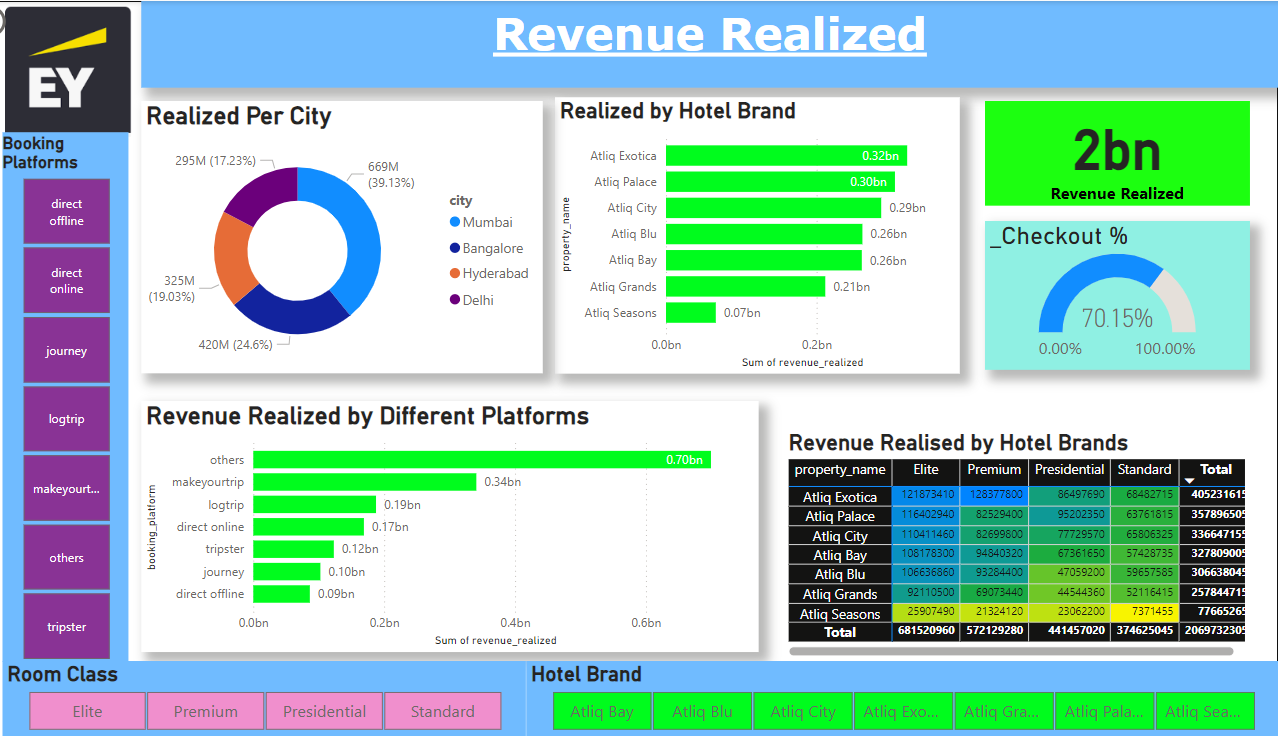

The dashboard page shown, as its layout file describes it:
{"tool":"powerbi","page":{"name":"Revenue Realised","canvas":[1280,720],"ordinal":0},"visuals":[{"type":"textbox","box":[167.6,0,1112.7,84.4],"z":0},{"type":"clusteredBarChart","title":"Revenue Realized by Different Platforms","fields":{"Category":["fact_bookings.booking_platform"],"Y":["Sum(fact_bookings.revenue_realized)"]},"box":[166.9,391.8,604.3,245.6],"z":1000},{"type":"image","box":[0,0,191.5,137.8],"z":2000},{"type":"clusteredBarChart","title":"Realized by Hotel Brand","fields":{"Category":["dim_hotels.property_name"],"Y":["Sum(fact_bookings.revenue_realized)"]},"box":[572.5,93.8,395.9,270.4],"z":3000},{"type":"donutChart","title":"Realized Per City","fields":{"Category":["dim_hotels.city"],"Y":["Sum(fact_bookings.revenue_realized)"]},"box":[166.9,98,393.2,266.3],"z":4000},{"type":"pivotTable","title":"Revenue Realised by Hotel Brands","fields":{"Values":["Sum(fact_bookings.revenue_generated)"],"Rows":["dim_hotels.property_name"],"Columns":["dim_rooms.room_class"]},"box":[796.1,419.4,456.1,226.2],"z":5000},{"type":"actionButton","box":[0,0,100,40],"z":6000},{"type":"slicer","title":"Room Class","fields":{"Values":["dim_rooms.room_class"]},"box":[31.7,645.7,511.8,74.5],"z":7000},{"type":"slicer","title":"Booking Platforms","fields":{"Values":["fact_bookings.booking_platform"]},"box":[31.8,128.4,123.5,517.3],"z":8000},{"type":"slicer","title":"Hotel Brand","fields":{"Values":["dim_hotels.property_name"]},"box":[543.6,645.7,736.7,74.5],"z":9000},{"type":"card","fields":{"Values":["Sum(fact_bookings.revenue_realized)"]},"box":[992.9,97.8,259.2,102.7],"z":10000},{"type":"gauge","fields":{"Y":["fact_bookings._Checkout %"]},"box":[992.9,215.2,259.2,145.5],"z":11000}]}

Visuals, with their boxes in screenshot pixels (x1, y1, x2, y2), scaled from the page's 1280x720 canvas onto the 1278x736 screenshot:
textbox: [x1=167, y1=0, x2=1277, y2=86]
"Revenue Realized by Different Platforms" clusteredBarChart: [x1=167, y1=401, x2=770, y2=652]
image: [x1=0, y1=0, x2=191, y2=141]
"Realized by Hotel Brand" clusteredBarChart: [x1=572, y1=96, x2=967, y2=372]
"Realized Per City" donutChart: [x1=167, y1=100, x2=559, y2=372]
"Revenue Realised by Hotel Brands" pivotTable: [x1=795, y1=429, x2=1250, y2=660]
actionButton: [x1=0, y1=0, x2=100, y2=41]
"Room Class" slicer: [x1=32, y1=660, x2=543, y2=735]
"Booking Platforms" slicer: [x1=32, y1=131, x2=155, y2=660]
"Hotel Brand" slicer: [x1=543, y1=660, x2=1277, y2=735]
card - Sum(fact_bookings.revenue_realized): [x1=991, y1=100, x2=1250, y2=205]
gauge - fact_bookings._Checkout %: [x1=991, y1=220, x2=1250, y2=369]
